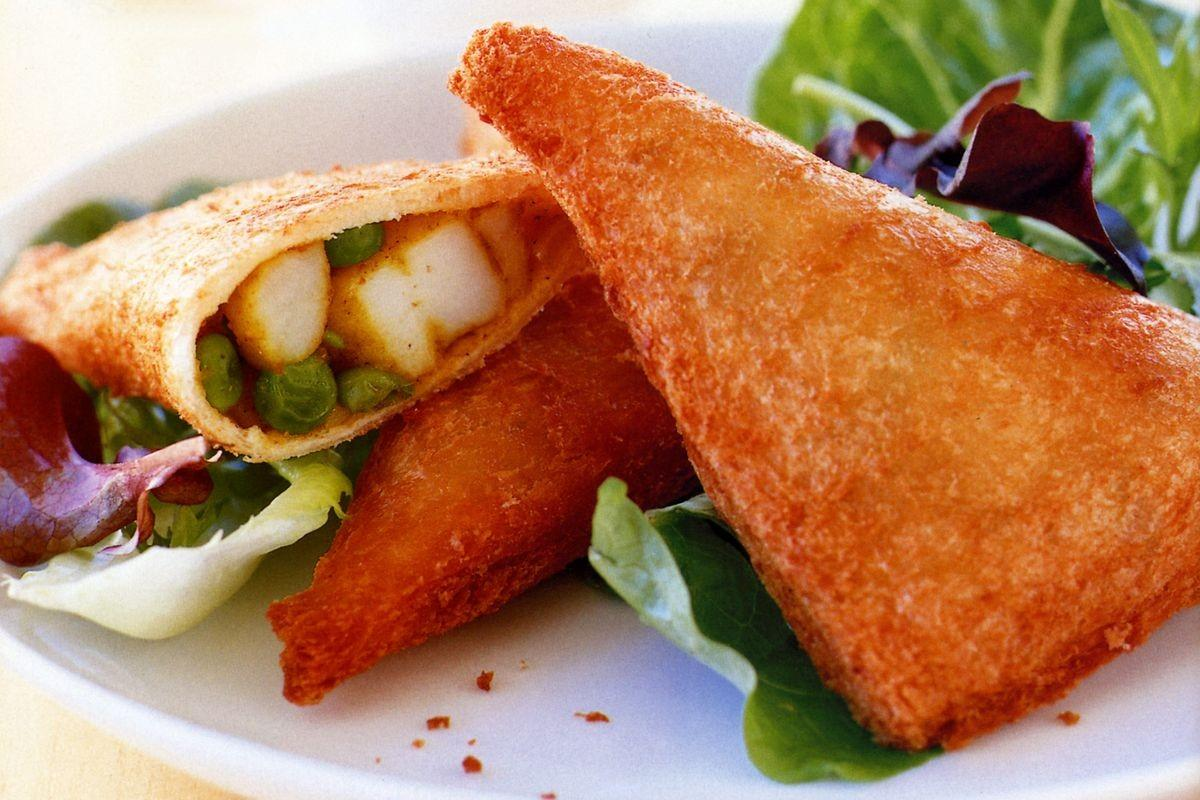samosa: (452, 26, 1200, 750)
